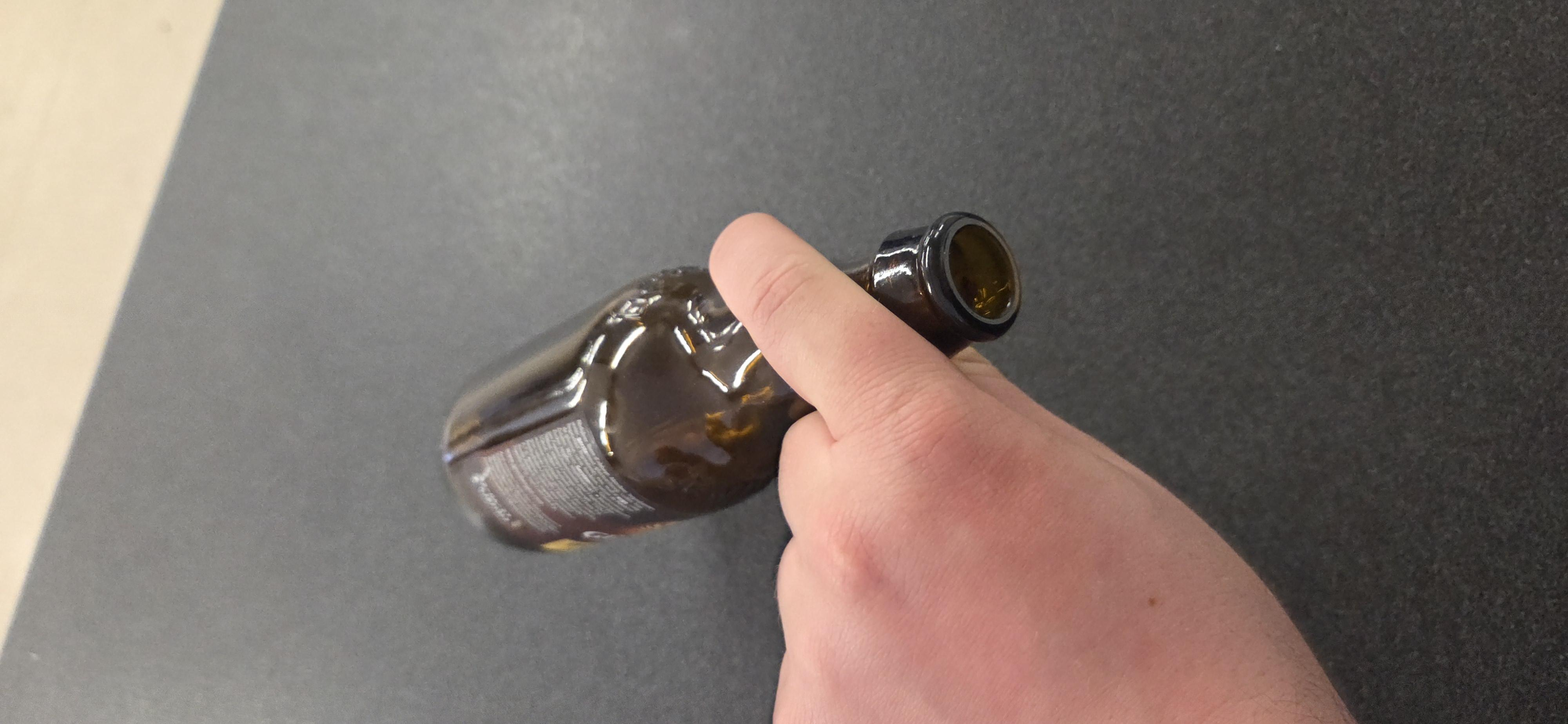Glass: (365, 199, 1124, 475)
